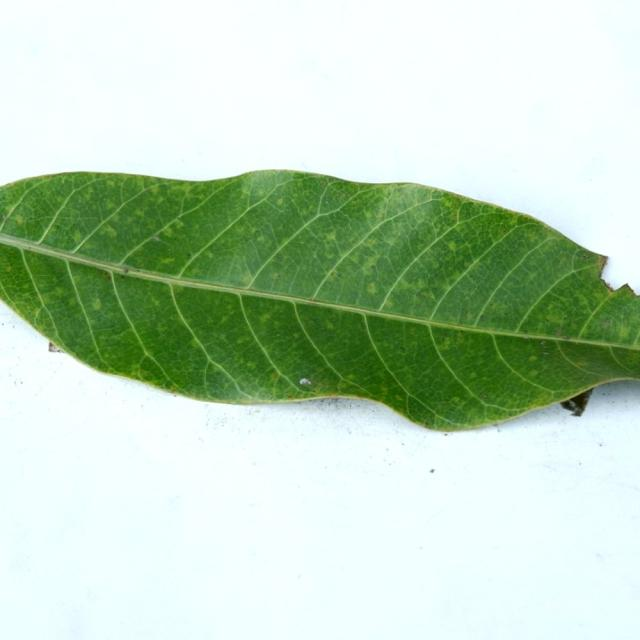Mango: (0, 171, 639, 430)
Powdery_Mildew: (136, 353, 169, 386), (201, 359, 236, 389), (539, 336, 560, 355), (321, 227, 338, 245), (361, 256, 378, 271), (102, 224, 117, 237), (420, 290, 436, 301), (439, 337, 452, 349), (159, 256, 176, 265), (207, 387, 220, 398), (366, 282, 377, 294), (259, 313, 271, 324), (242, 273, 253, 285), (72, 230, 82, 243), (91, 299, 102, 310), (151, 299, 162, 310), (364, 239, 377, 248), (100, 271, 113, 280), (304, 300, 320, 307), (446, 241, 457, 251), (327, 271, 338, 281), (163, 227, 174, 237), (149, 185, 160, 195), (465, 309, 475, 320), (173, 220, 185, 229), (453, 206, 460, 221), (14, 215, 24, 225), (415, 279, 425, 289), (55, 287, 66, 296), (134, 209, 144, 218), (375, 210, 384, 220), (253, 229, 262, 239), (246, 363, 257, 371), (107, 203, 116, 212), (270, 372, 279, 381), (456, 334, 465, 343), (385, 300, 394, 309), (528, 355, 538, 363), (325, 321, 335, 329), (204, 251, 214, 259), (554, 329, 564, 337), (256, 235, 265, 243), (106, 180, 115, 188), (394, 394, 403, 402), (451, 396, 461, 403), (346, 374, 356, 381), (602, 321, 612, 328), (152, 235, 162, 242), (276, 198, 284, 206), (257, 190, 265, 198), (469, 372, 477, 379), (423, 420, 431, 427), (122, 267, 129, 274), (5, 265, 13, 271), (563, 334, 570, 340), (542, 349, 549, 355), (540, 340, 546, 346), (2, 215, 8, 221), (582, 254, 589, 259), (274, 274, 280, 279), (120, 274, 126, 279), (523, 330, 529, 335), (287, 395, 294, 399), (186, 252, 191, 257), (482, 394, 487, 398), (397, 183, 403, 186)
